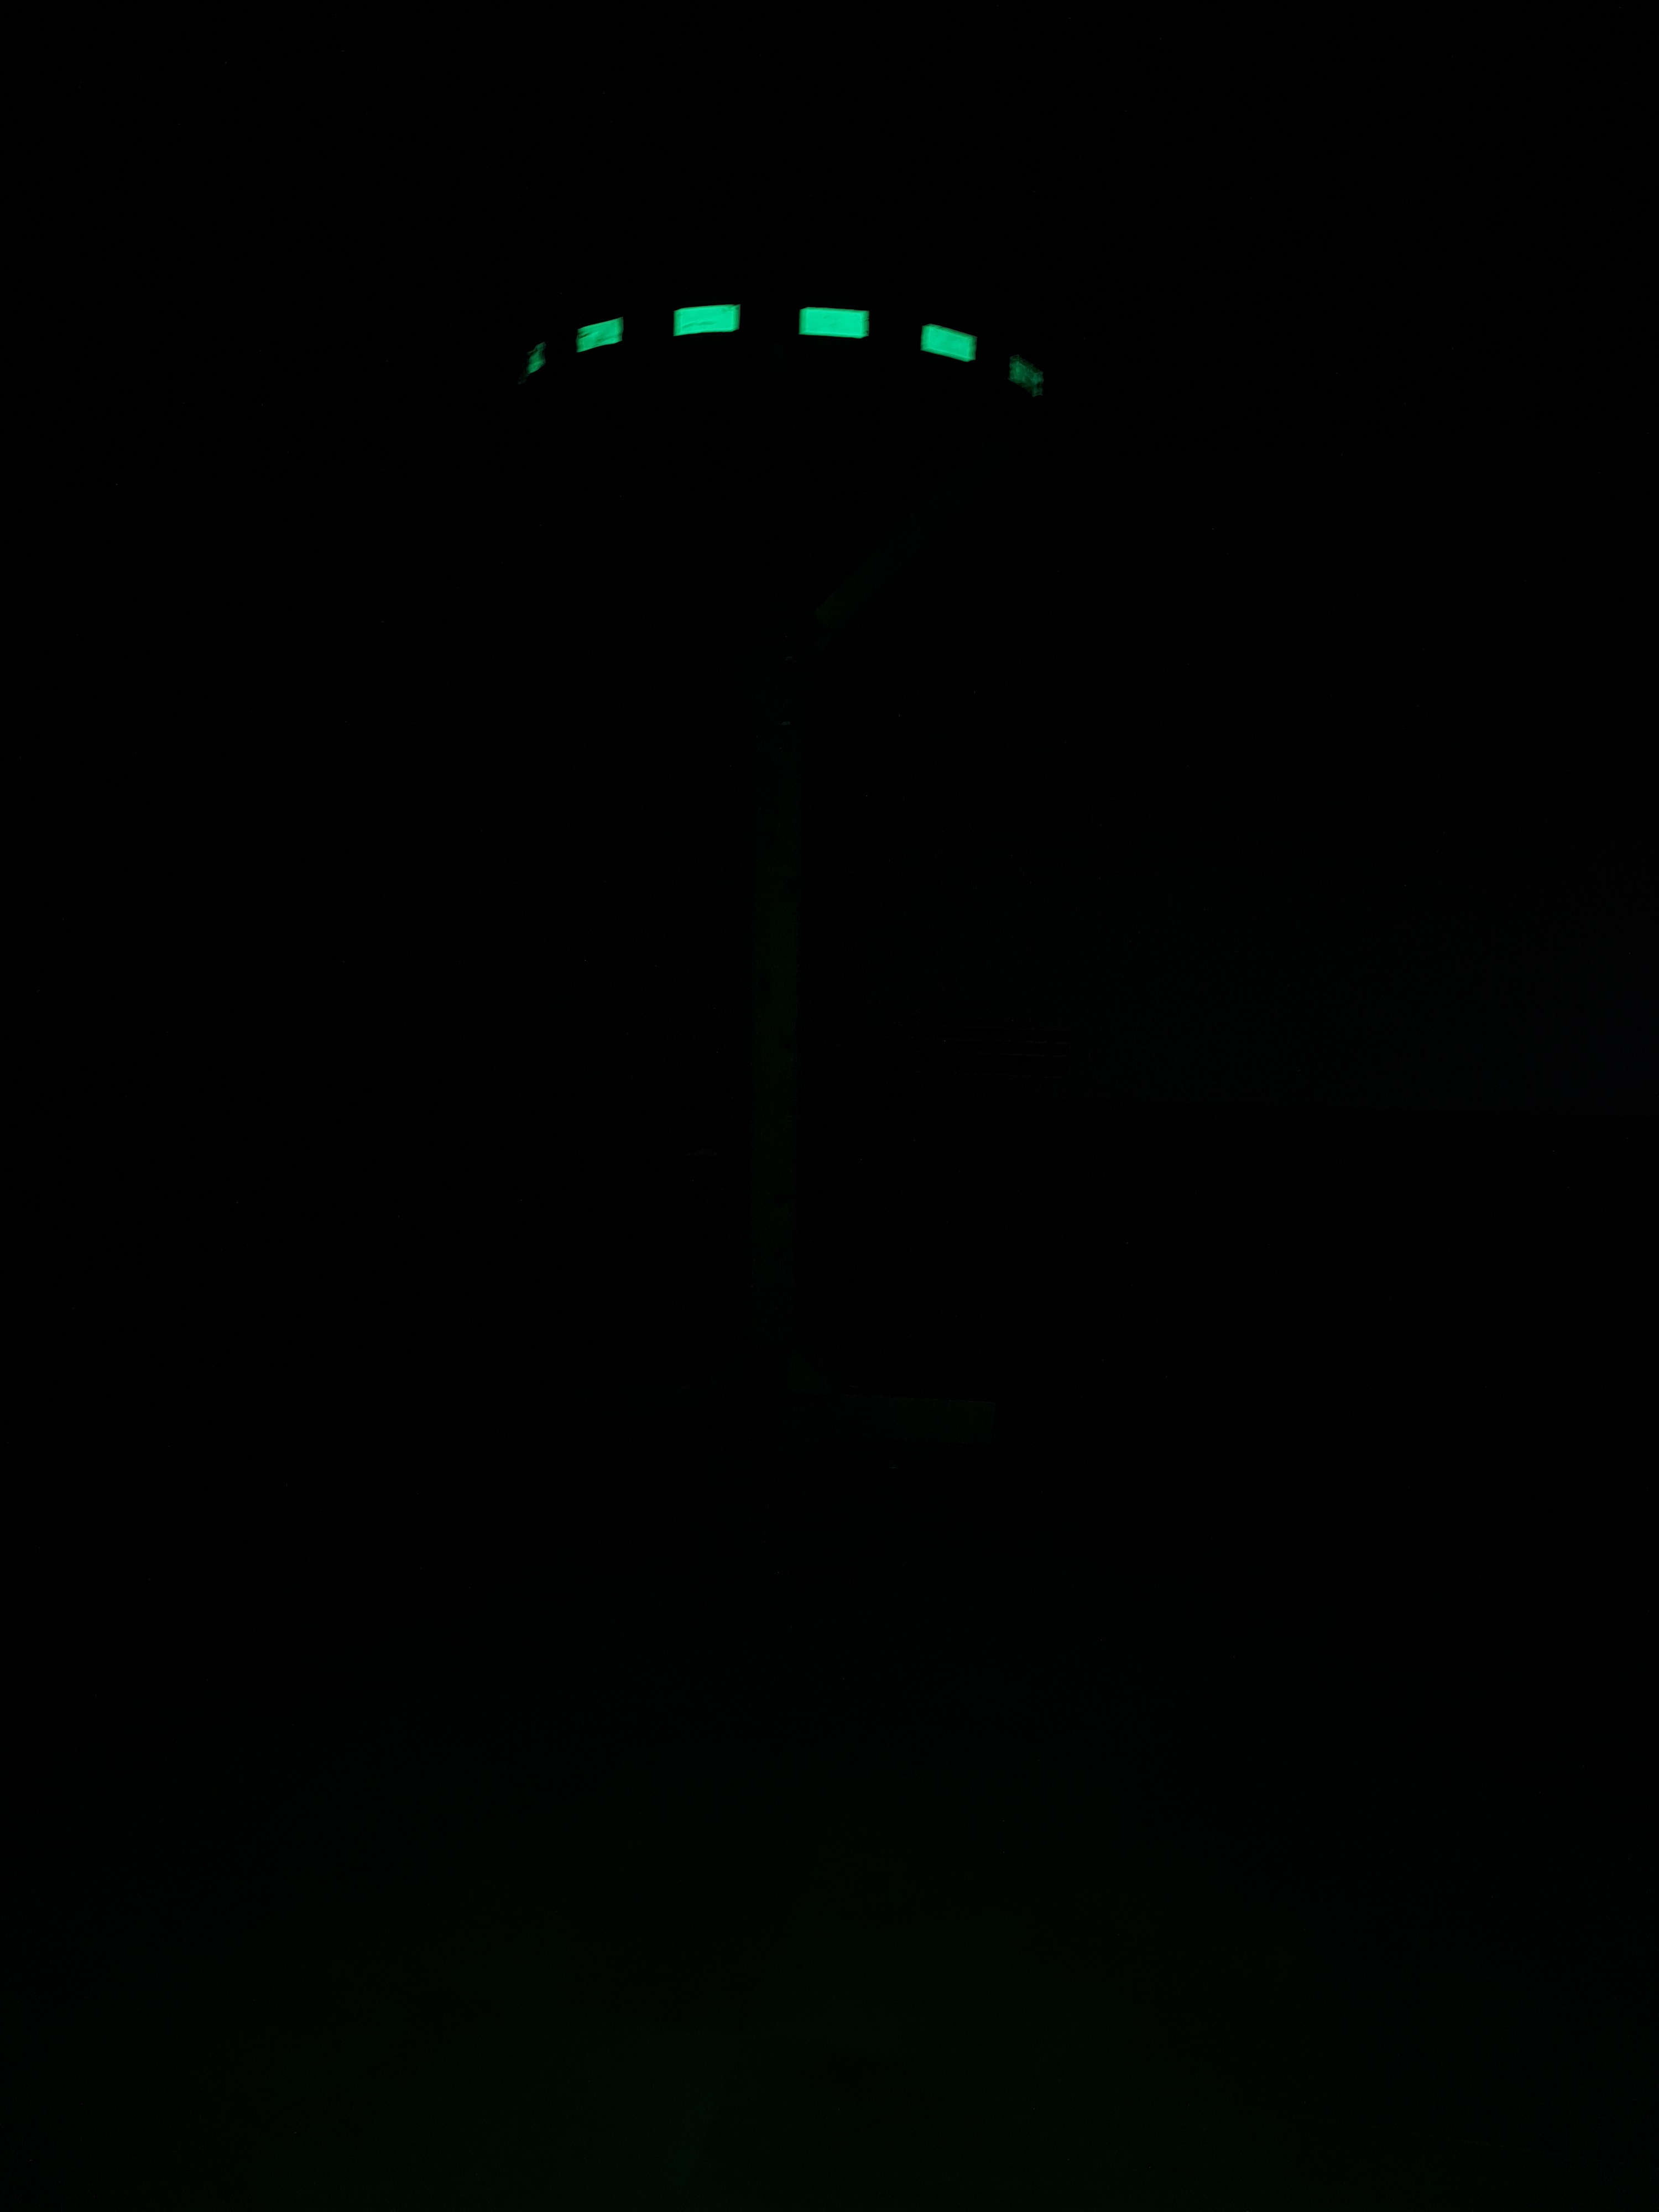hoop: (505, 293, 1063, 409)
